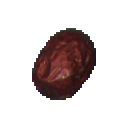gd: (26, 25, 105, 103)
